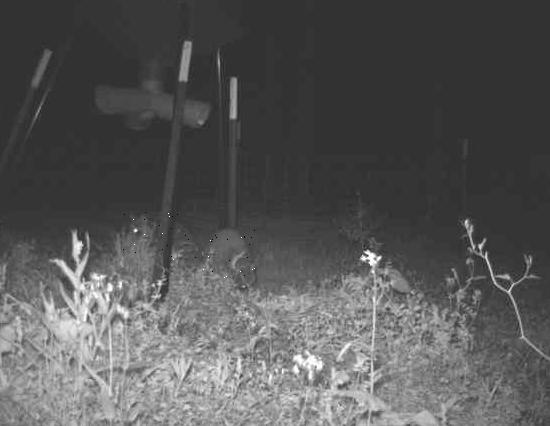Raccoon: (122, 213, 196, 263), (202, 229, 255, 279)
